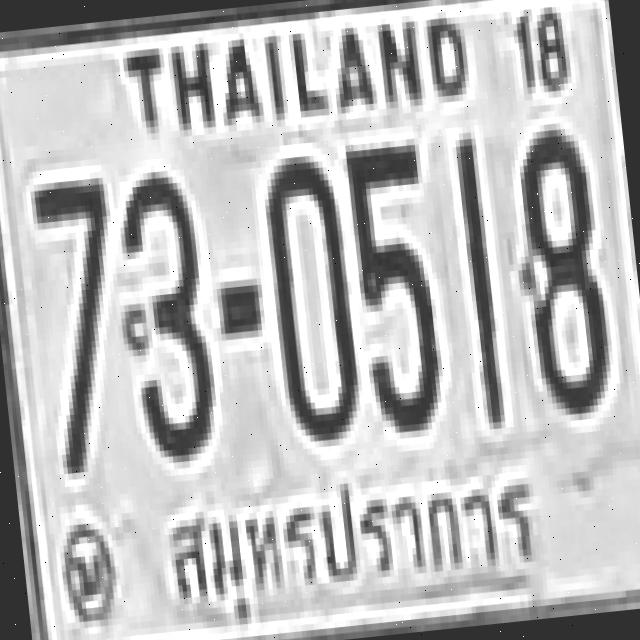0: (255, 146, 358, 438)
1: (450, 132, 505, 424)
3: (106, 162, 217, 460)
5: (340, 138, 448, 436)
7: (28, 171, 128, 468)
8: (509, 122, 620, 418)
SamutPrakan: (143, 443, 559, 640)
